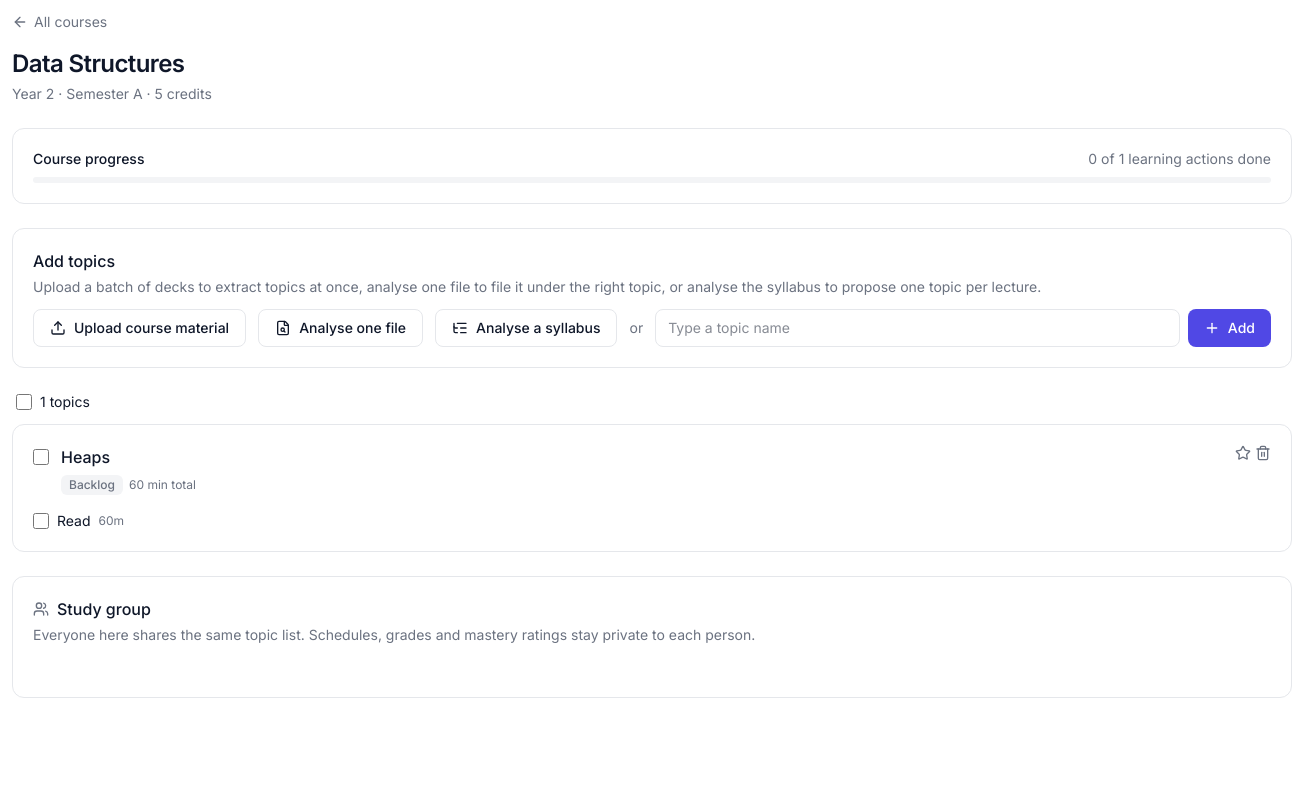
Scenario: CourseDetailPage › shows an error instead of failing silently when a rename is rejected
The width and height of the screenshot is (1292, 812).
Replace the text in the field showing "Heaps" with "fail" at (642, 457), box left=61, top=445, right=1223, bottom=469
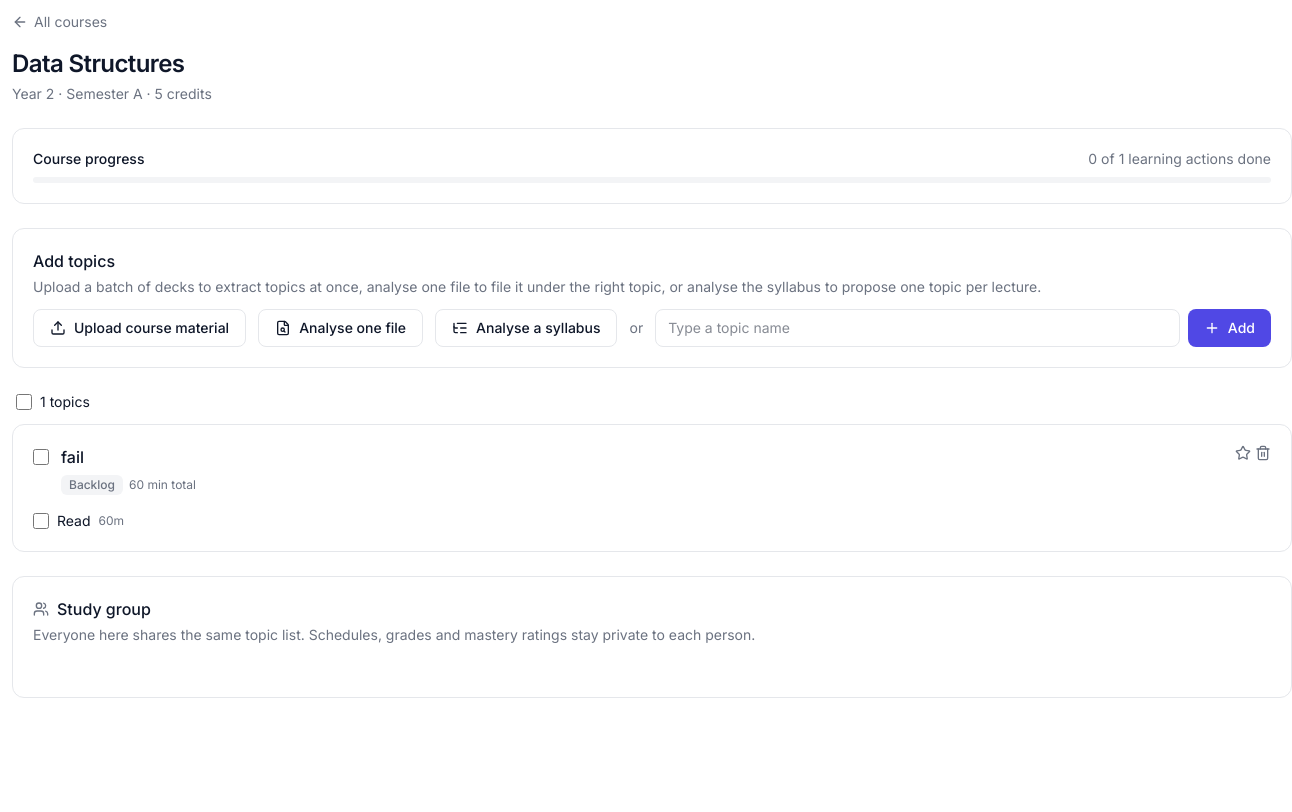
Leave the field showing "Heaps", box left=61, top=445, right=1223, bottom=469
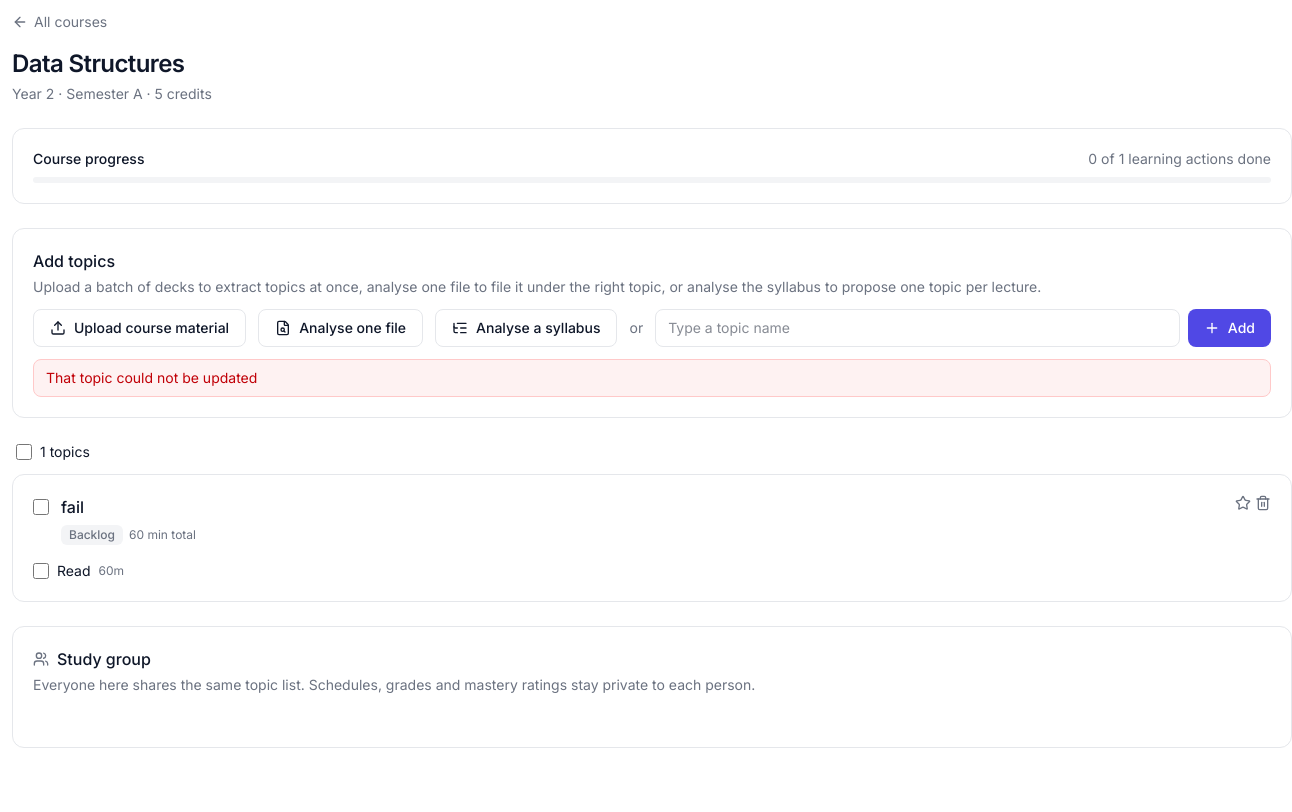
Expected: the message reads "That topic could not be updated", left=46, top=369, right=257, bottom=386
